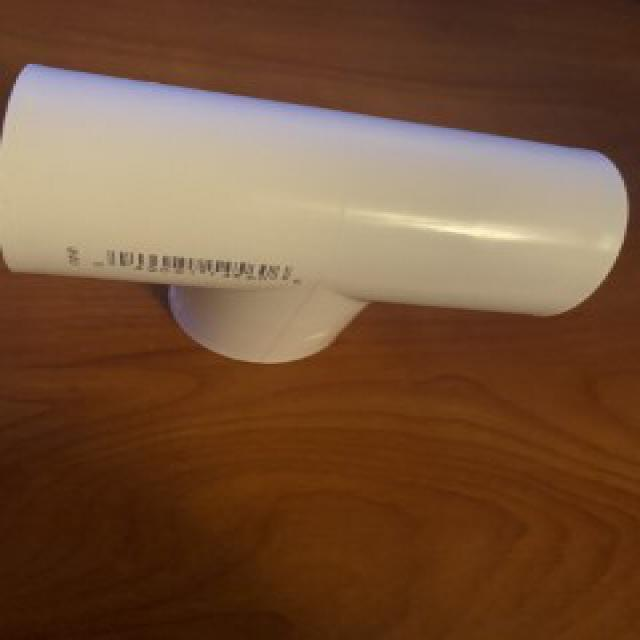T Joint: (0, 63, 630, 367)
